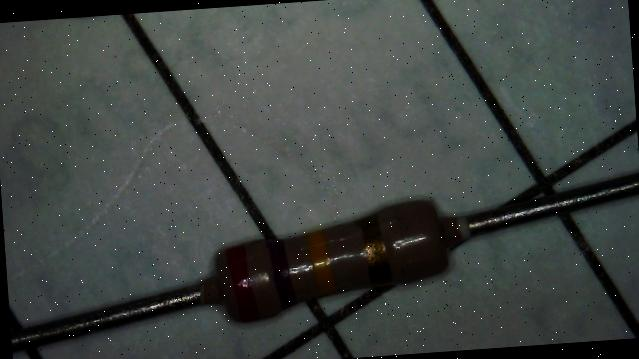gold: (361, 212, 394, 285)
red: (225, 244, 258, 322)
resistor: (184, 174, 473, 341)
violet: (266, 240, 296, 308)
yellow: (303, 229, 334, 295)
